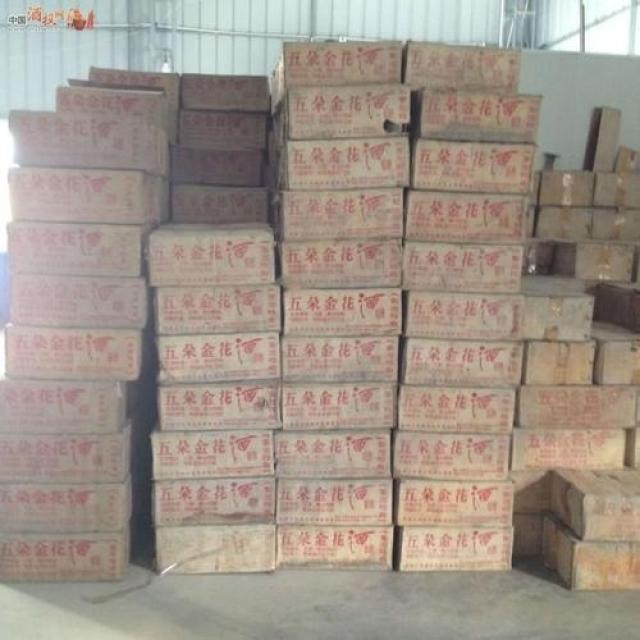box: (10, 110, 160, 174), (0, 517, 134, 580), (150, 221, 276, 288), (6, 168, 154, 225), (273, 88, 413, 148), (274, 41, 403, 105), (6, 221, 155, 276), (0, 470, 134, 530), (544, 507, 640, 590), (0, 422, 133, 481), (12, 273, 152, 329), (5, 325, 146, 380), (411, 138, 536, 195), (0, 379, 129, 434), (275, 186, 404, 241), (275, 137, 411, 189), (412, 90, 543, 143), (404, 189, 527, 244), (157, 379, 282, 433), (549, 468, 640, 541), (157, 332, 280, 385), (152, 476, 275, 529), (152, 285, 282, 334), (402, 242, 524, 294), (151, 430, 274, 481), (56, 79, 172, 133), (399, 338, 524, 388), (402, 41, 521, 93), (274, 241, 403, 288), (402, 291, 526, 339), (392, 481, 515, 529), (273, 430, 392, 479), (154, 525, 275, 573), (396, 387, 517, 435), (276, 477, 393, 526), (274, 525, 394, 572), (282, 383, 398, 431), (393, 433, 511, 480), (280, 335, 399, 381), (282, 291, 403, 335), (513, 387, 636, 430), (396, 526, 513, 571), (509, 428, 627, 471), (169, 145, 264, 187), (88, 65, 180, 108), (172, 184, 269, 224), (180, 73, 271, 113), (522, 292, 594, 342), (521, 340, 595, 387), (590, 319, 640, 387), (178, 111, 268, 147), (556, 241, 634, 282), (538, 170, 594, 207), (507, 471, 552, 517), (604, 283, 640, 334), (536, 207, 593, 239), (594, 173, 639, 210), (593, 210, 640, 243), (512, 516, 544, 558), (626, 430, 640, 470)
